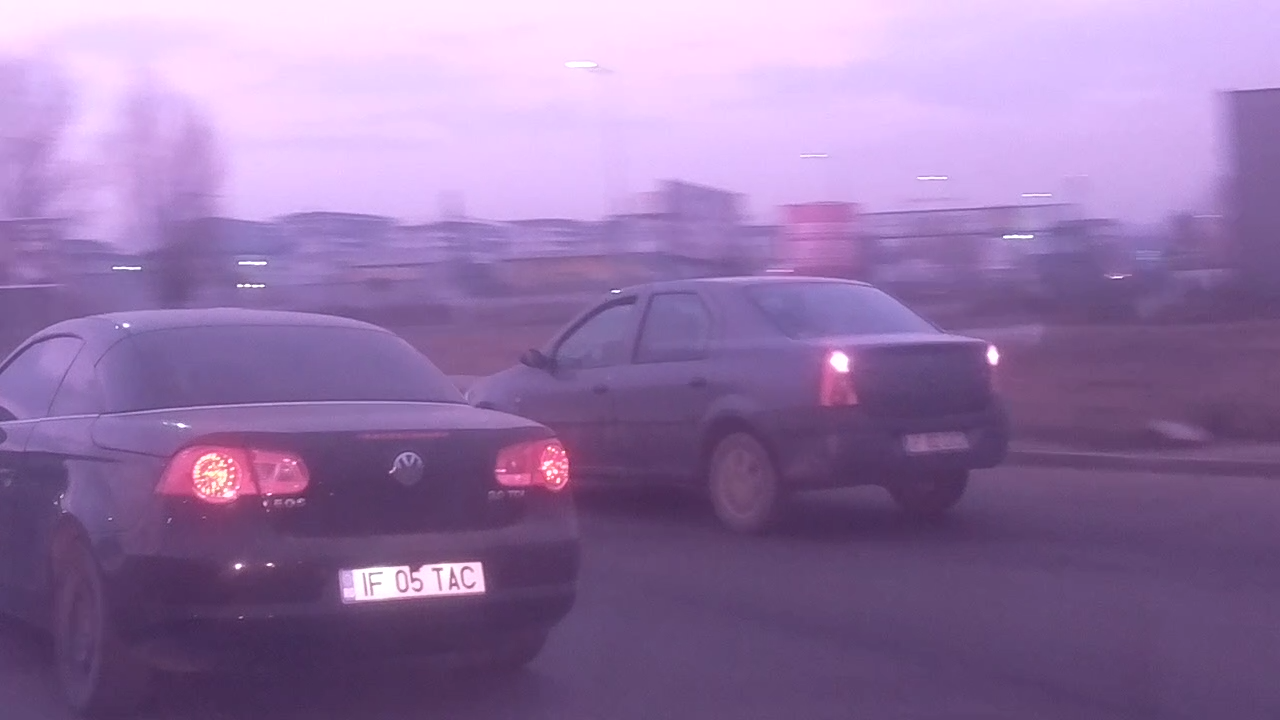license-plate: (333, 558, 489, 604)
